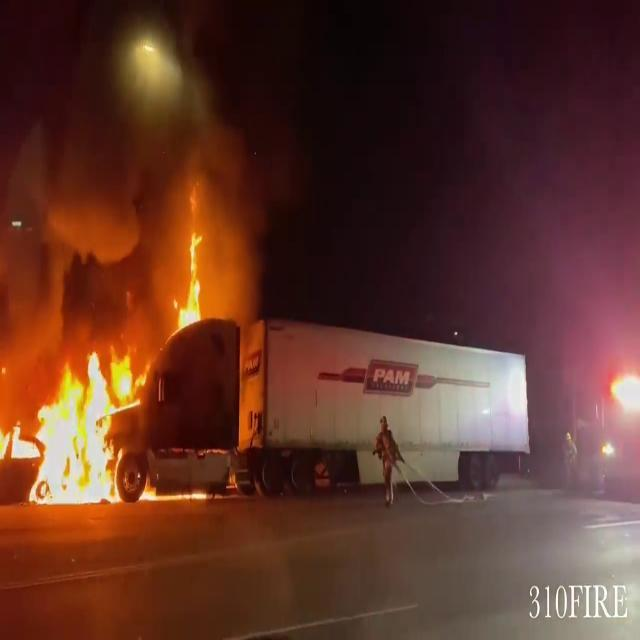Fire: (0, 344, 146, 506), (172, 223, 210, 341)
Smoke: (0, 21, 304, 336)
